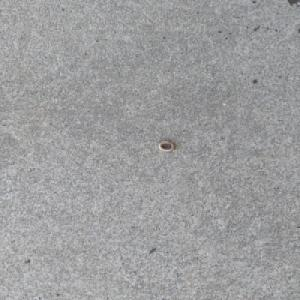Nut: (157, 141, 176, 152)
